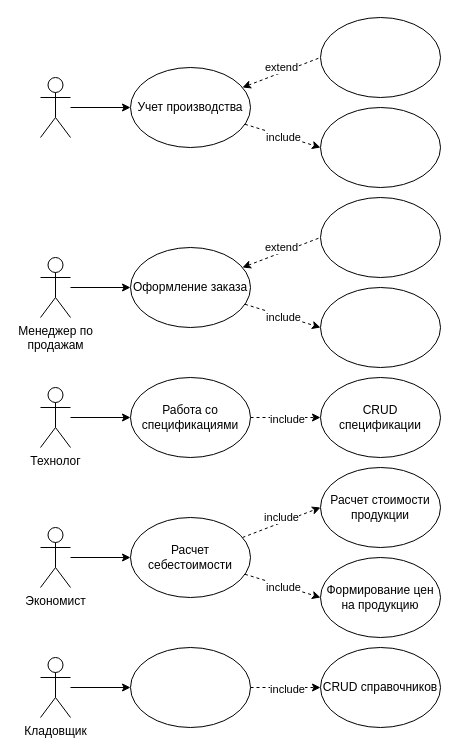
Image size: 458x756. Some labels were removed from this diagram. Each missing label, with the centre of its shape:
CRUD заказа: point (380, 327)
Наличие на складе: point (380, 237)
Начальник производства: point (55, 107)
Отслеживание статуса: point (380, 57)
Создание производственного заказа: point (380, 147)
Управление справочниками: point (190, 687)
